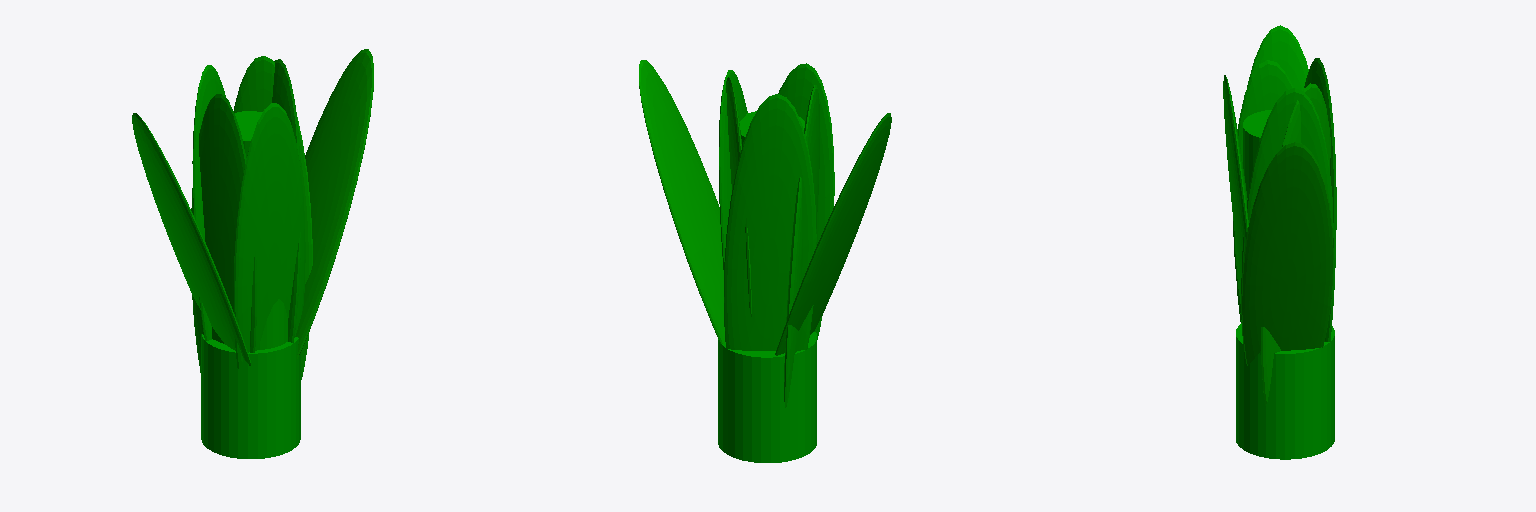
Rendered from sprout.obj.
3 renders of one model, left to right at view 1: azimuth 30°, elevation 25°; view 2: azimuth 150°, elevation 25°; view 3: azimuth 270°, elevation 25°, orthographic.
Visible parts, largest first — view 1: Sphere.006, Cylinder.001, Sphere.001, Sphere.005, Sphere, Sphere.003, Sphere.004, Sphere.002, Cylinder; view 2: Sphere.004, Cylinder.001, Sphere.001, Sphere, Sphere.006, Sphere.005, Sphere.002, Sphere.003; view 3: Sphere.001, Cylinder.001, Sphere.002, Sphere.006, Sphere.005, Sphere.003, Sphere, Sphere.004, Cylinder.
Boxes of the visible parts, <box> form: Sphere.006: <box>234,103,305,368</box>; Cylinder.001: <box>201,334,300,458</box>; Sphere.001: <box>295,49,373,358</box>; Sphere.005: <box>191,94,256,372</box>; Sphere: <box>132,113,250,365</box>; Sphere.003: <box>234,56,312,379</box>; Sphere.004: <box>192,65,225,340</box>; Sphere.002: <box>272,59,300,342</box>; Cylinder: <box>235,111,287,349</box>; Sphere.004: <box>724,94,816,350</box>; Cylinder.001: <box>718,332,816,462</box>; Sphere.001: <box>639,60,725,343</box>; Sphere: <box>775,113,891,355</box>; Sphere.006: <box>778,63,834,339</box>; Sphere.005: <box>784,85,819,407</box>; Sphere.002: <box>719,70,747,269</box>; Sphere.003: <box>726,77,751,316</box>; Sphere.001: <box>1241,142,1333,365</box>; Cylinder.001: <box>1236,323,1334,459</box>; Sphere.002: <box>1241,88,1333,293</box>; Sphere.006: <box>1223,75,1260,354</box>; Sphere.005: <box>1233,60,1293,319</box>; Sphere.003: <box>1261,83,1330,405</box>; Sphere: <box>1237,25,1308,322</box>; Sphere.004: <box>1304,58,1336,341</box>; Cylinder: <box>1243,110,1271,197</box>.
Size of the model in its own units: 0.8446 by 1.24 by 0.346.